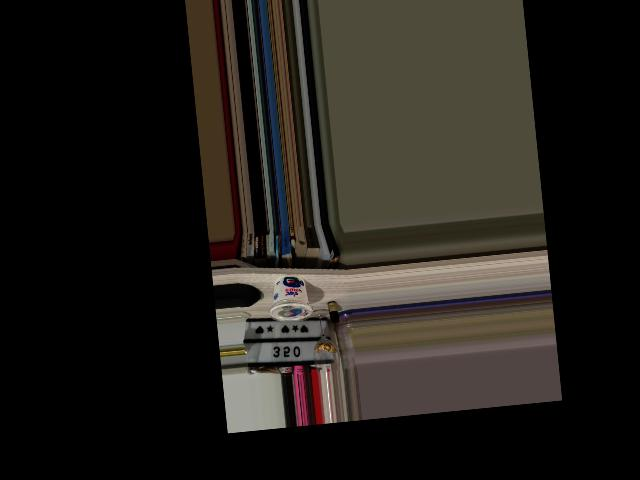cotage: (269, 272, 310, 324)
